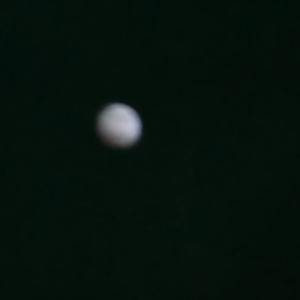ball: (93, 100, 145, 153)
